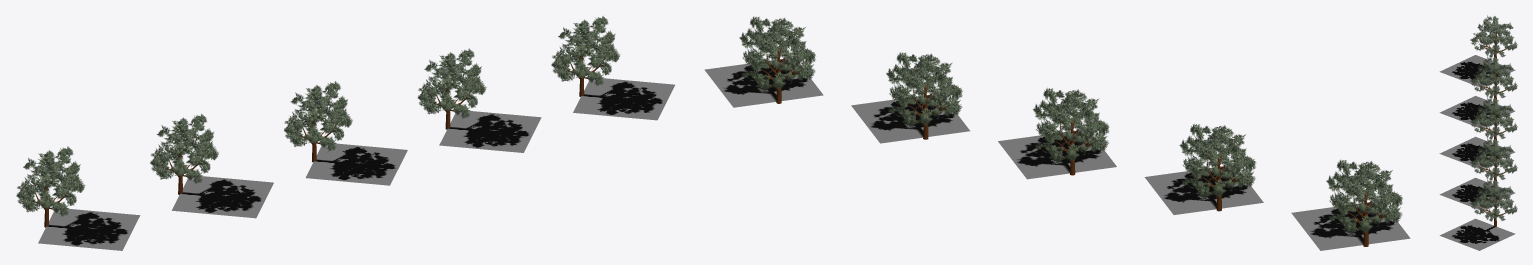
The model's file is tree_bermX5.glb.
3 renders of one model, left to right at view 1: azimuth 30°, elevation 25°; view 2: azimuth 150°, elevation 25°; view 3: azimuth 270°, elevation 25°, orthographic. The views are drawn at different scales.
Parts seen in each view (by area): view 1: leaves; view 2: leaves; view 3: leaves.
Boxes of the visible parts, box(x1,y1,x2,y2) form: leaves: box(16, 16, 674, 250); leaves: box(704, 16, 1410, 250); leaves: box(1439, 15, 1517, 250).
Bounding box in the file's own units: 121 × 13.85 × 20.51.
Materials: 15 (10 with a texture image).
